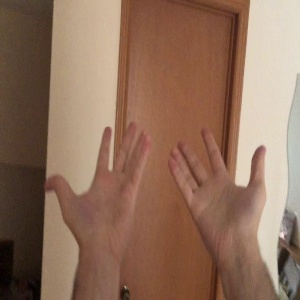hand: (45, 121, 150, 248), (168, 127, 266, 250)
